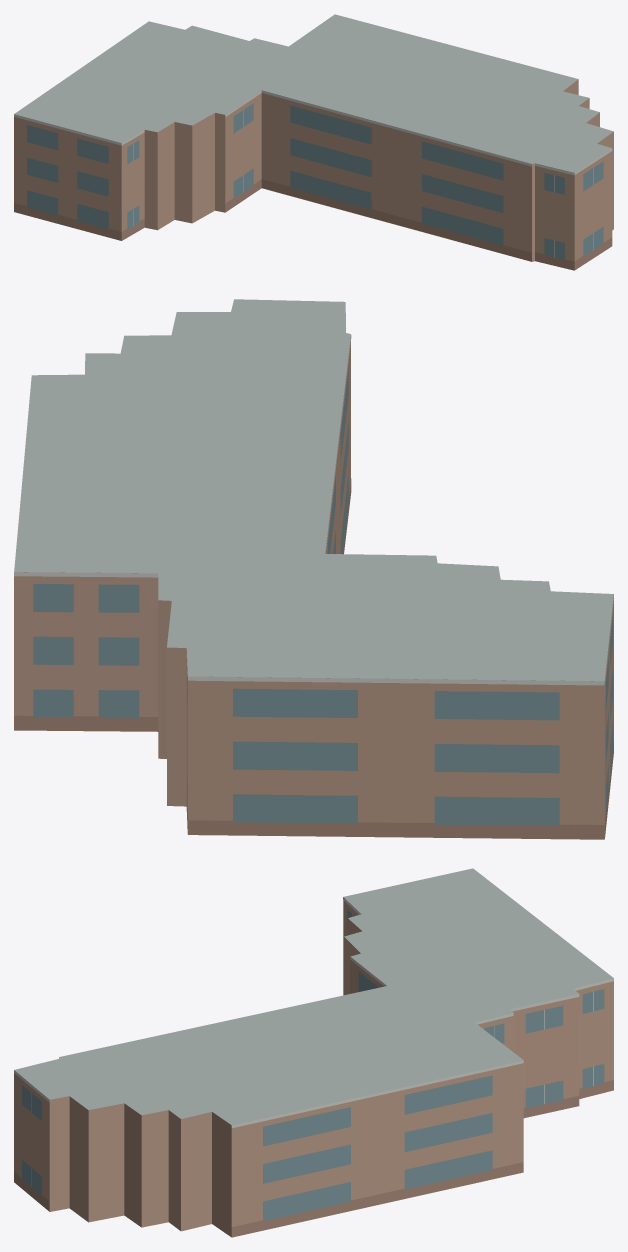
Rendered from survey-upis-32685361.glb.
The picture shows the model from 3 angles, top to bottom: view 1: azimuth 30°, elevation 25°; view 2: azimuth 150°, elevation 25°; view 3: azimuth 270°, elevation 25°; orthographic projection. The views are drawn at different scales.
Visible parts, largest first — view 1: survey-upis-32685361.tmp; view 2: survey-upis-32685361.tmp; view 3: survey-upis-32685361.tmp.
Part boxes in pixels (x1,y1,x2,y2): survey-upis-32685361.tmp: (14, 14, 613, 270); survey-upis-32685361.tmp: (14, 299, 613, 839); survey-upis-32685361.tmp: (14, 868, 613, 1237).
Size of the model in its own units: 44.93 by 9.15 by 44.32.
